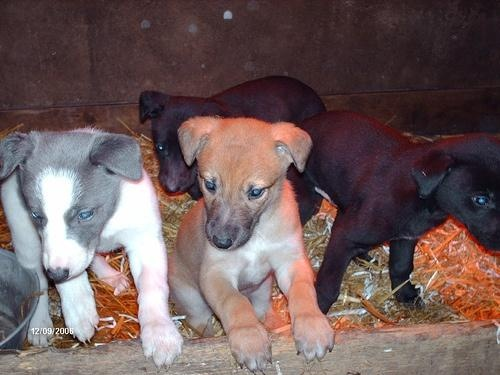dog: (2, 131, 185, 373), (293, 112, 500, 324), (167, 117, 338, 373), (139, 75, 329, 223)
